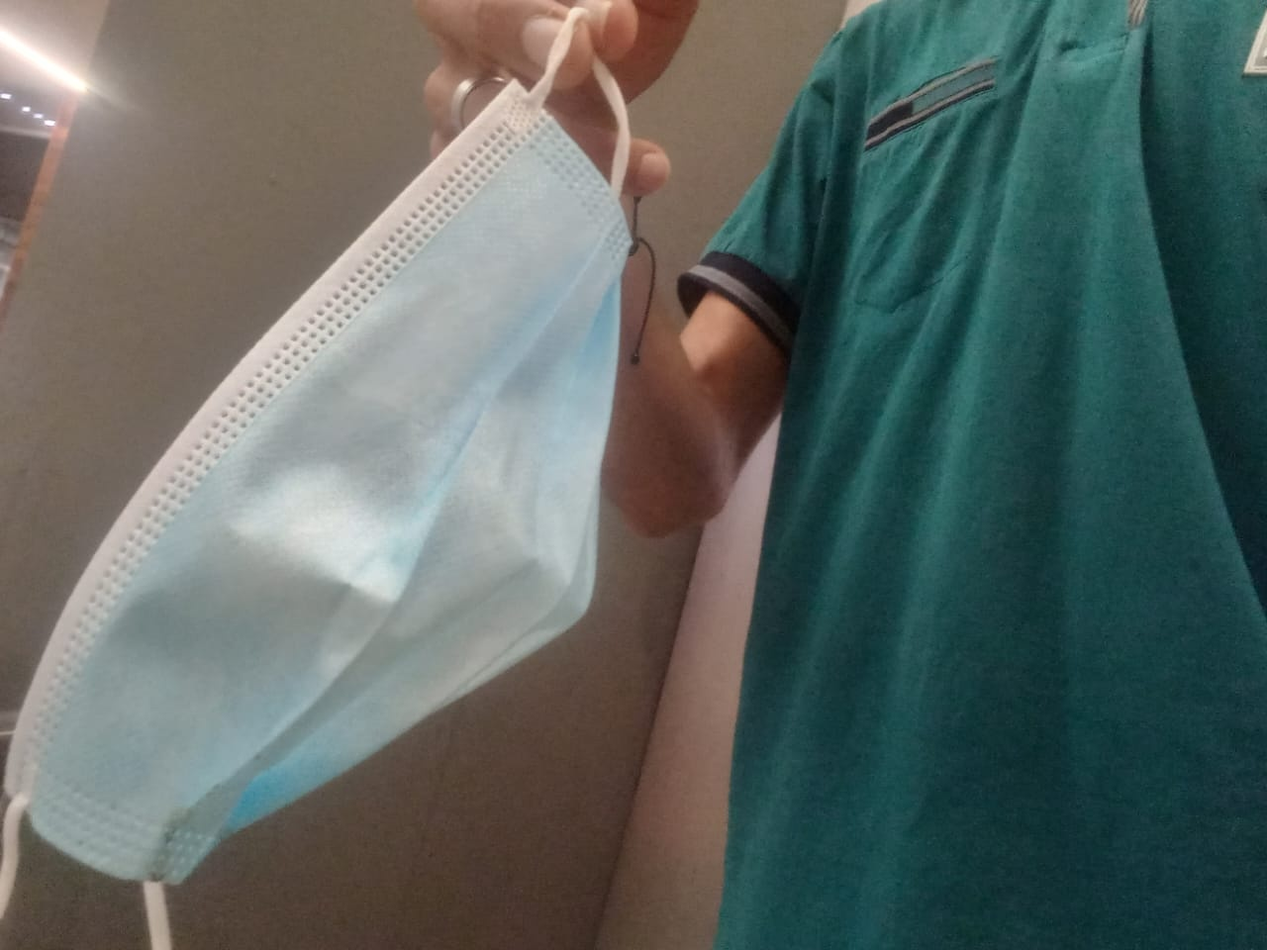Ordinario: (0, 20, 631, 890)
